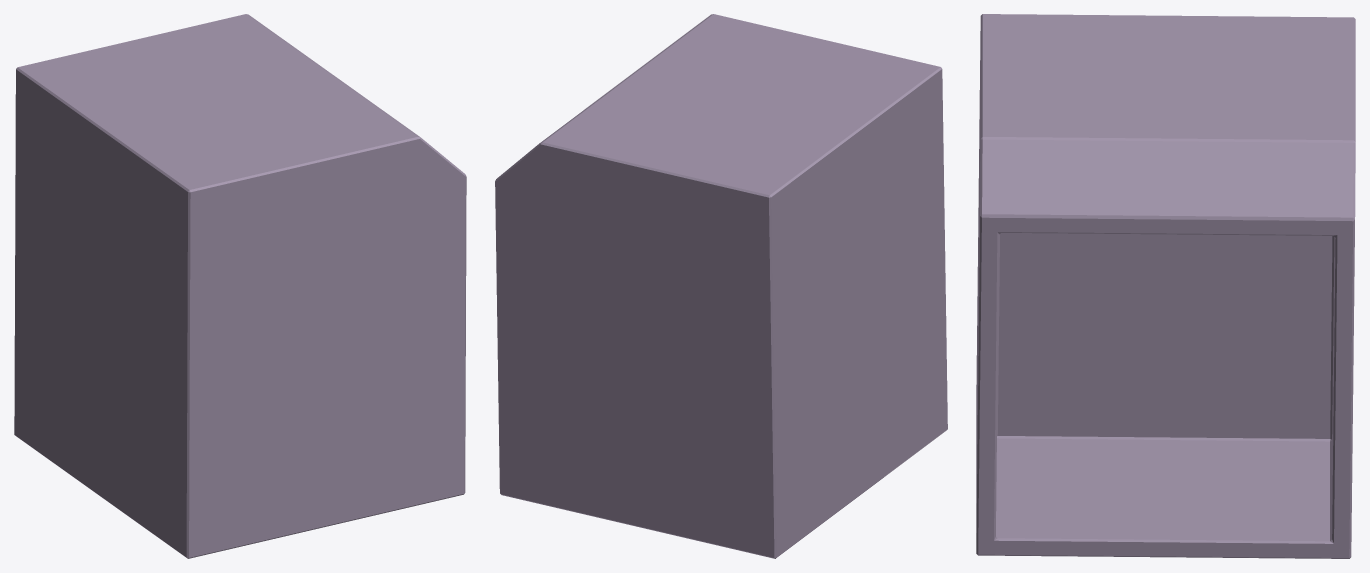
The model's file is Stove.fbx.
The picture shows the model from 3 angles, left to right: view 1: azimuth 30°, elevation 25°; view 2: azimuth 150°, elevation 25°; view 3: azimuth 270°, elevation 25°; orthographic projection. The views are drawn at different scales.
Visible parts, largest first — view 1: Stove; view 2: Stove; view 3: Stove.
Part boxes in pixels (x1,y1,x2,y2): Stove: (14, 14, 466, 558); Stove: (495, 14, 947, 558); Stove: (976, 14, 1355, 558).
Size of the model in its own units: 0.9087 by 1.15 by 0.9827.
